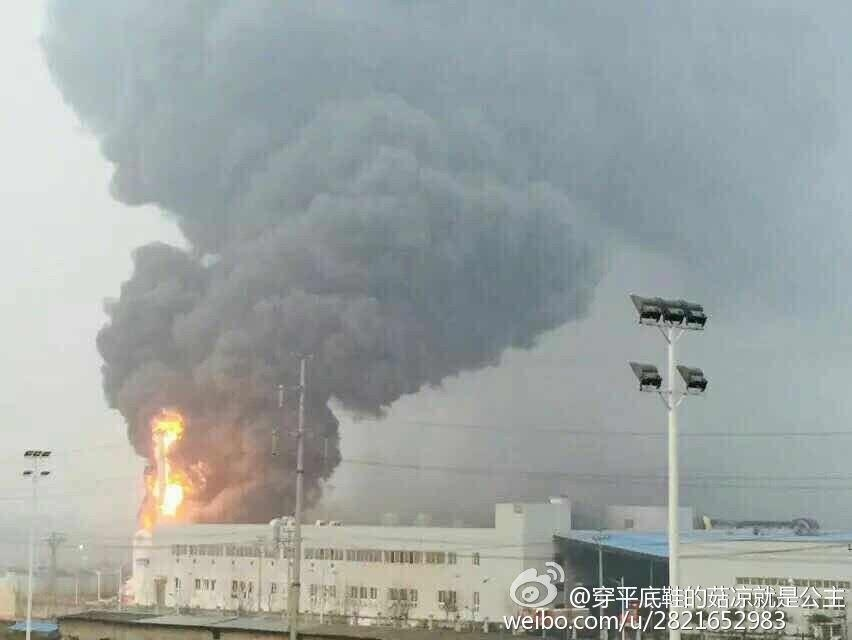fire: (141, 409, 185, 530)
